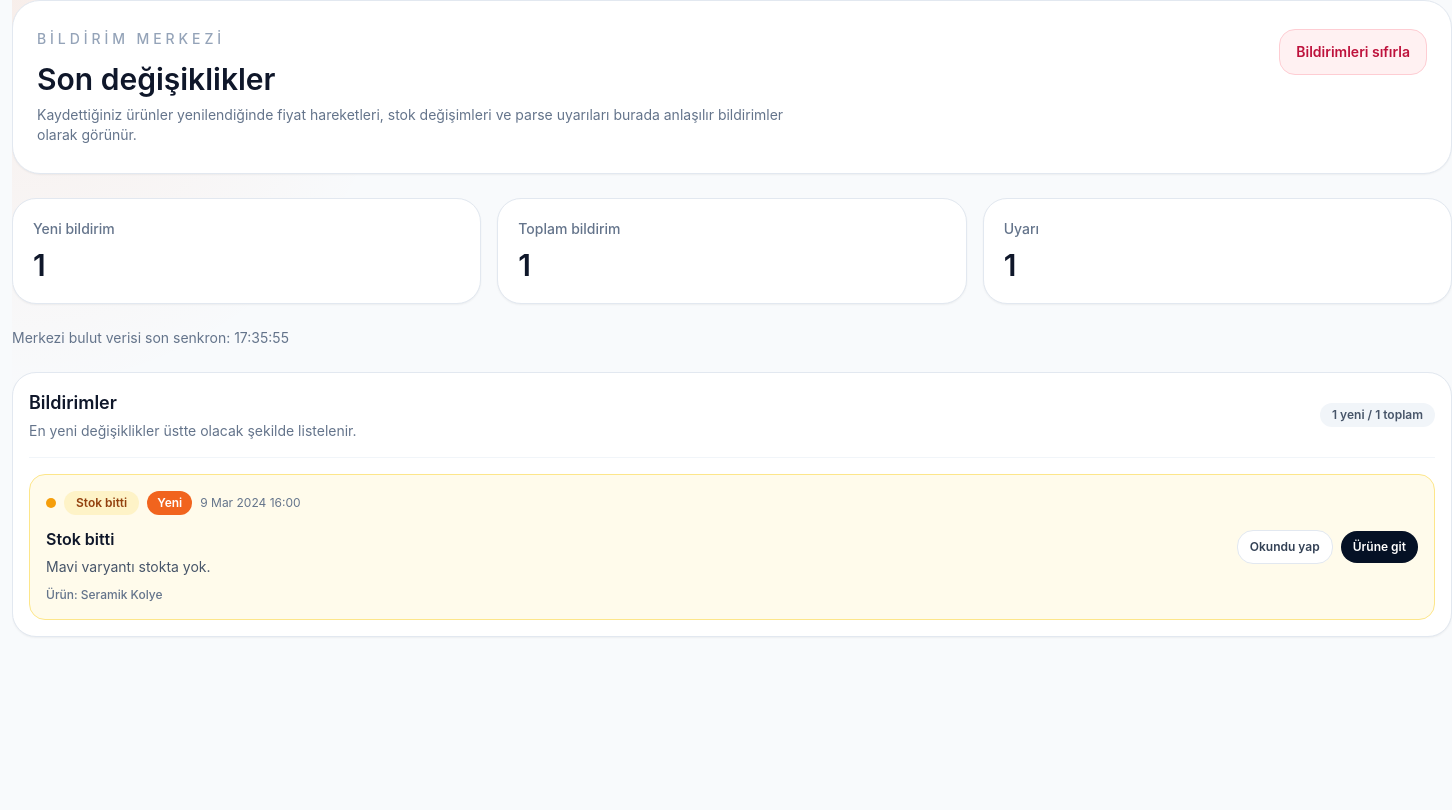
NotificationsPage › clears all notifications after explicit browser confirmation
expect the button with aria-label "stok bitti bildirimini okundu yap" is shown: met, box [46,491,1225,603]
Click the button "Bildirimleri sıfırla": (1353, 52) [1279,29,1427,75]
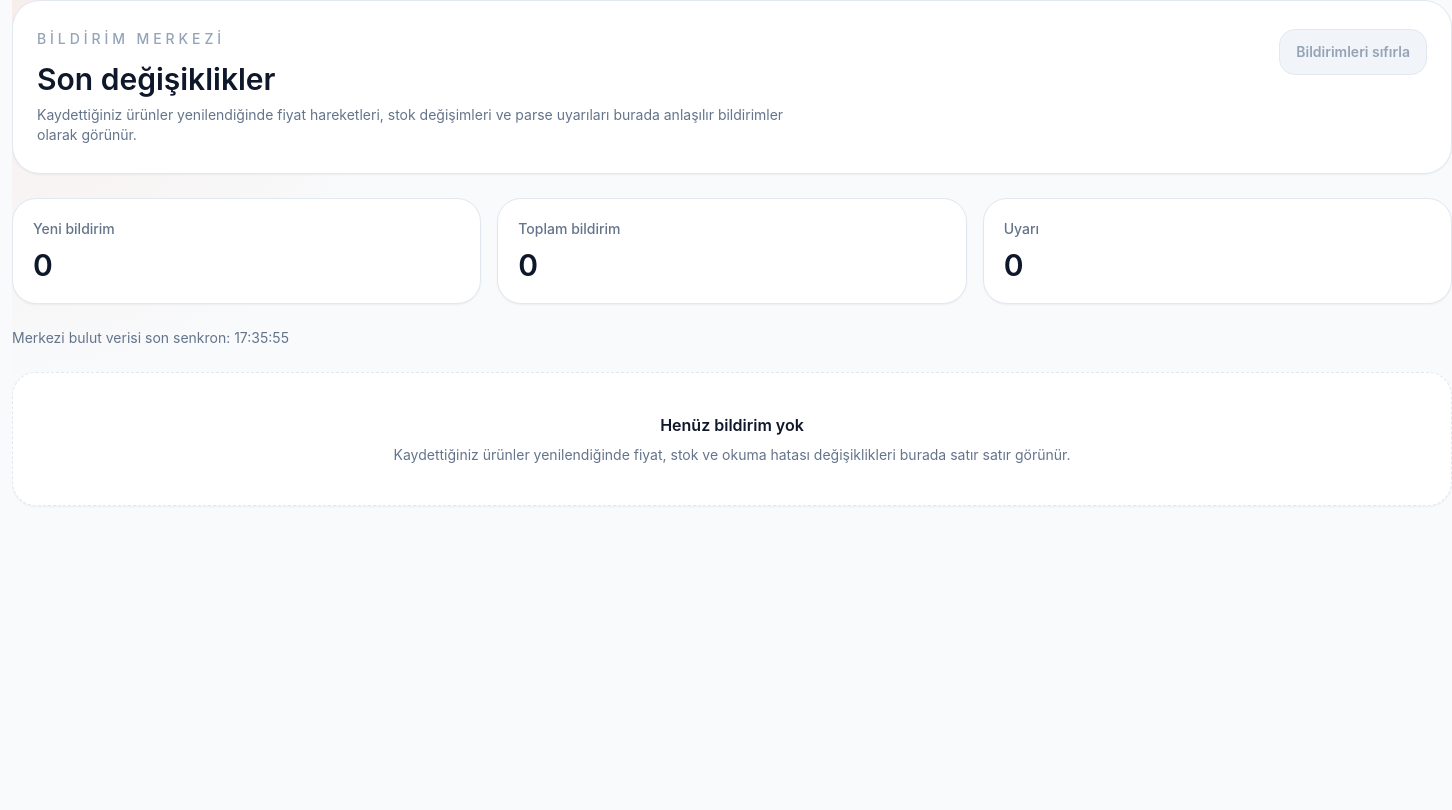
expect the text "Henüz bildirim yok" is shown: met, box [660,415,804,435]
